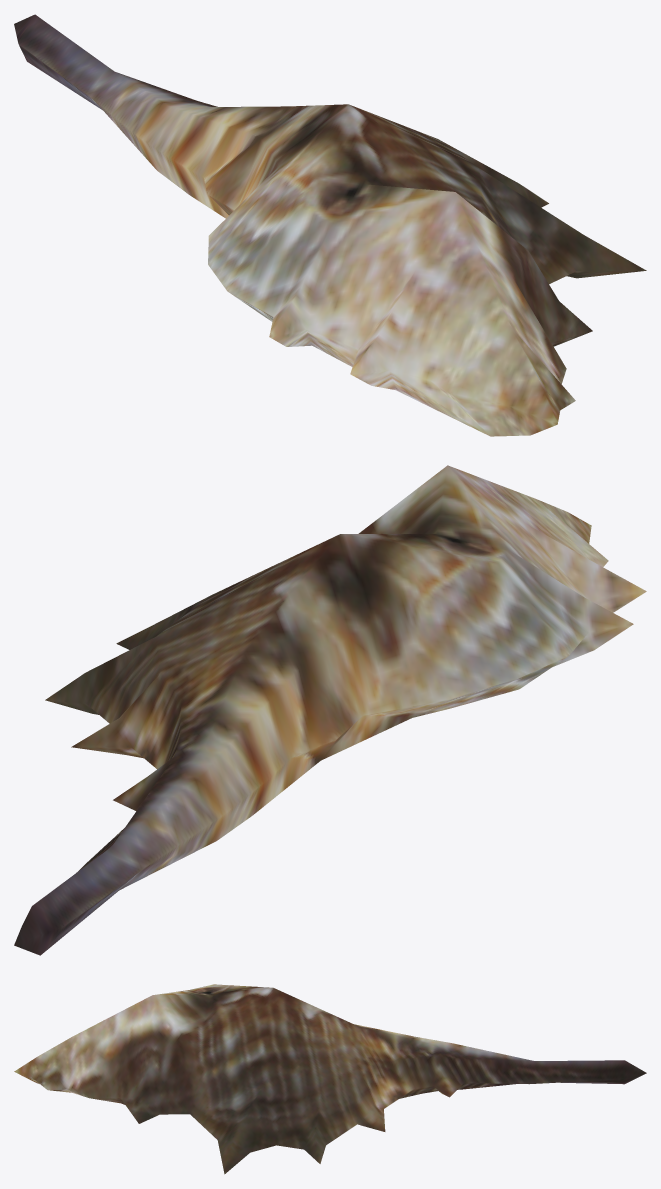
Rendered from SeaShell-08_LOD0_FattooCreater.glb.
3 views of the same model, one above another, from view 1: azimuth 30°, elevation 25°; view 2: azimuth 150°, elevation 25°; view 3: azimuth 270°, elevation 25° (orthographic). The views are drawn at different scales.
Parts seen in each view (by area): view 1: SeaShell-08_high; view 2: SeaShell-08_high; view 3: SeaShell-08_high.
Boxes of the visible parts, left/top/right/bottom form: SeaShell-08_high: left=14, top=14, right=646, bottom=436; SeaShell-08_high: left=14, top=465, right=646, bottom=955; SeaShell-08_high: left=14, top=984, right=646, bottom=1174.
Bounding box in the file's own units: 0.0147 × 0.0064 × 0.032.
1 material, 1 textured.
